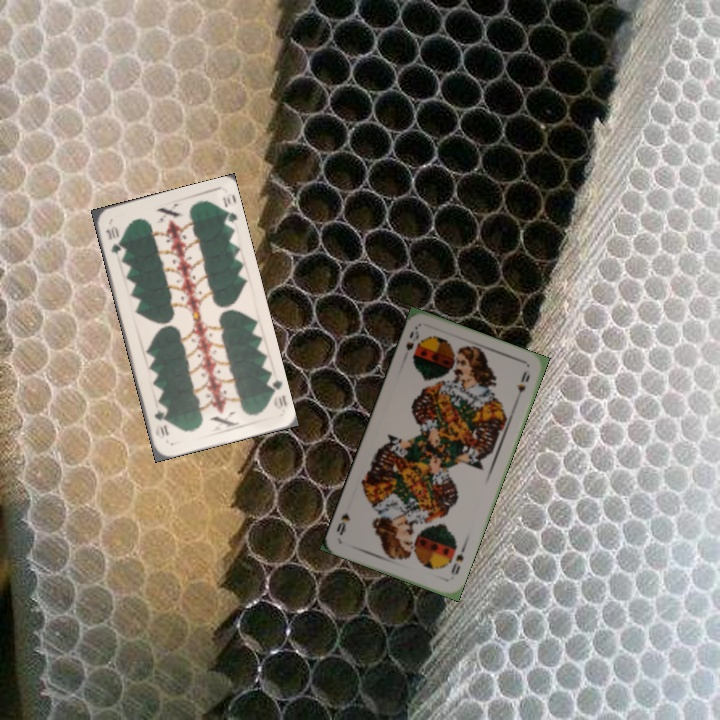G10: (263, 374, 289, 412), (101, 222, 123, 258)
SO: (447, 543, 468, 577), (402, 323, 422, 354)
